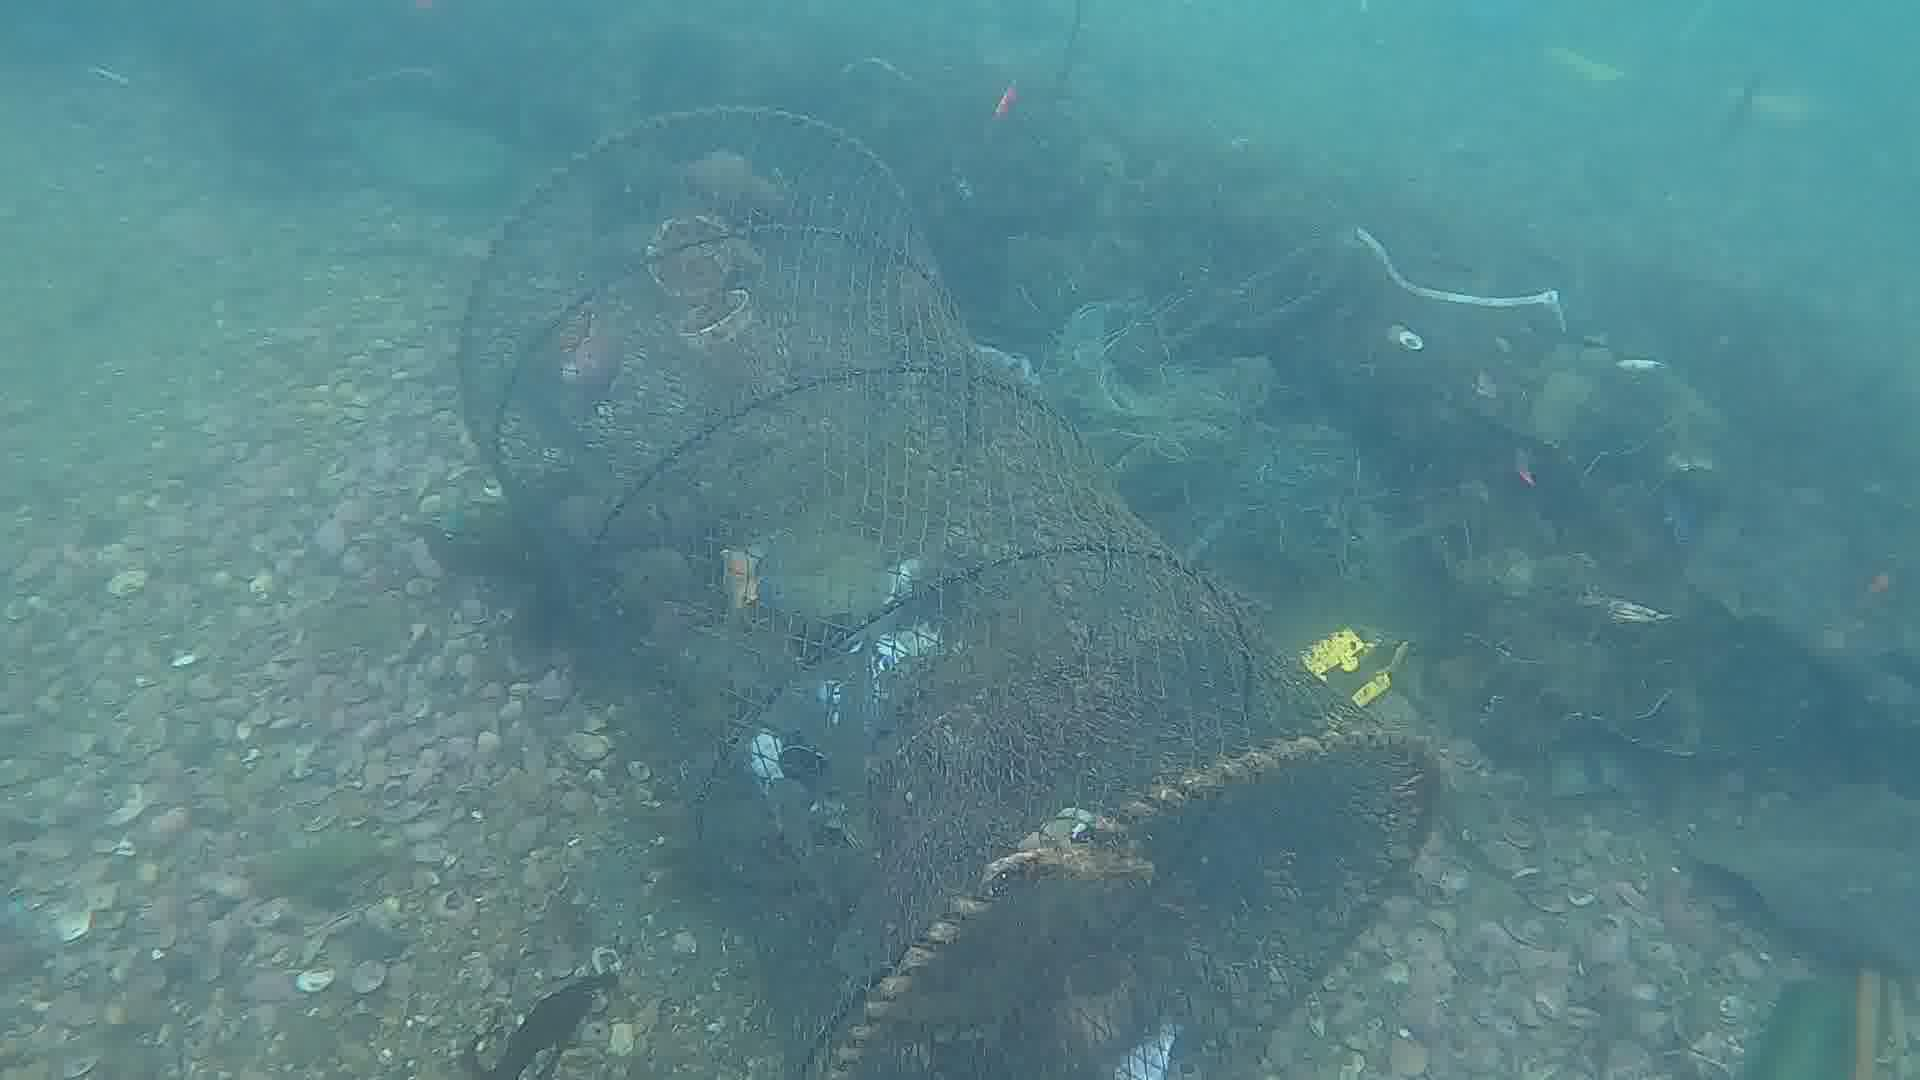spring fish trap: (456, 104, 1443, 1080)
